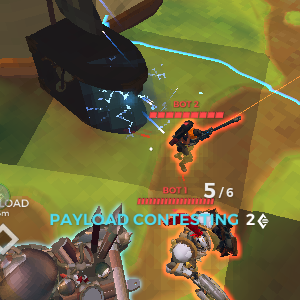model: (156, 204, 247, 299), (170, 120, 199, 171)
